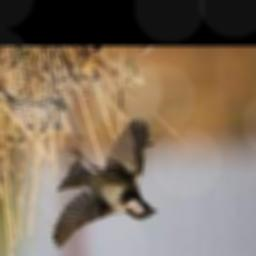Sparrow: (52, 119, 157, 250)
